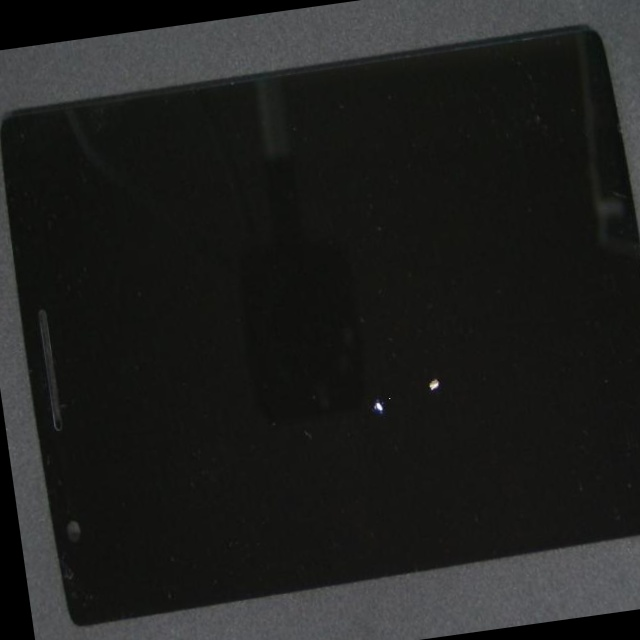stain: (200, 129, 640, 568), (154, 180, 573, 640)
